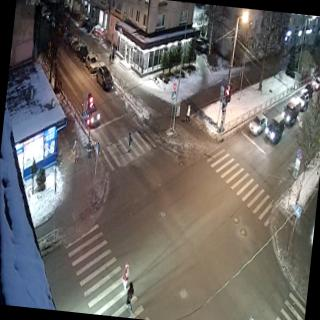large-vehicle: (281, 98, 300, 126)
small-vehicle: (79, 98, 101, 128), (94, 62, 115, 92), (264, 116, 285, 144), (248, 112, 267, 137), (83, 52, 98, 74), (76, 42, 90, 64), (296, 91, 309, 112), (68, 36, 80, 54), (300, 83, 312, 99), (64, 30, 74, 45), (311, 77, 320, 90)
